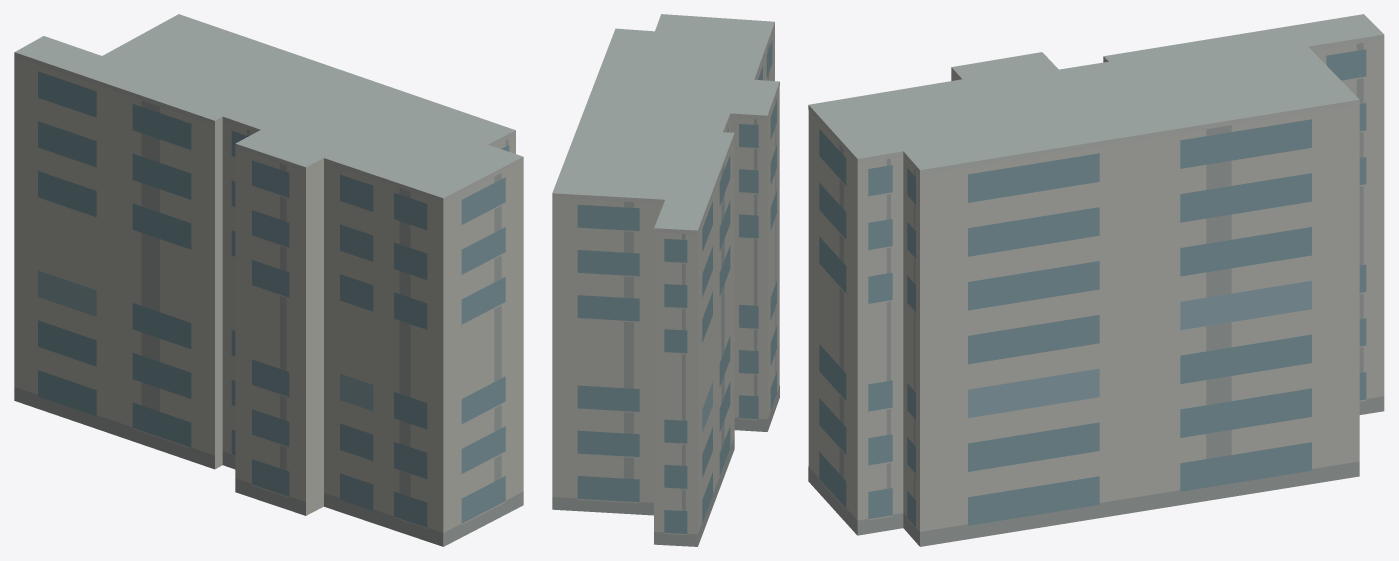
File: survey-upis-32685613.glb
3 views of the same model, side by side, from view 1: azimuth 30°, elevation 25°; view 2: azimuth 150°, elevation 25°; view 3: azimuth 270°, elevation 25° (orthographic). The views are drawn at different scales.
Visible parts, largest first — view 1: survey-upis-32685613.tmp; view 2: survey-upis-32685613.tmp; view 3: survey-upis-32685613.tmp.
Boxes of the visible parts, x1,y1,x2,y2 form: survey-upis-32685613.tmp: [14, 14, 523, 546]; survey-upis-32685613.tmp: [552, 14, 779, 546]; survey-upis-32685613.tmp: [808, 14, 1384, 546].
Bounding box in the file's own units: 16.32 × 18.34 × 25.42.
